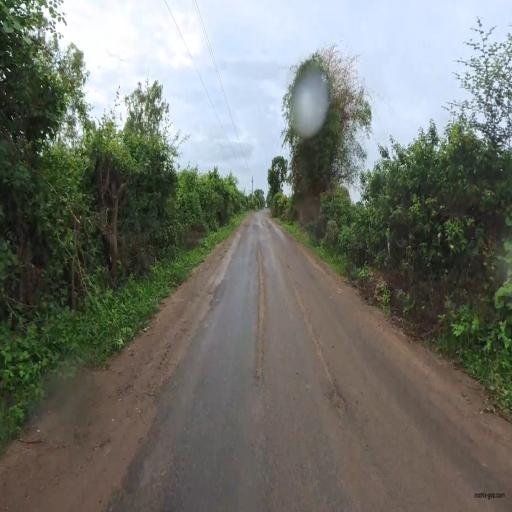longitudinal_crack: (249, 215, 278, 413)
